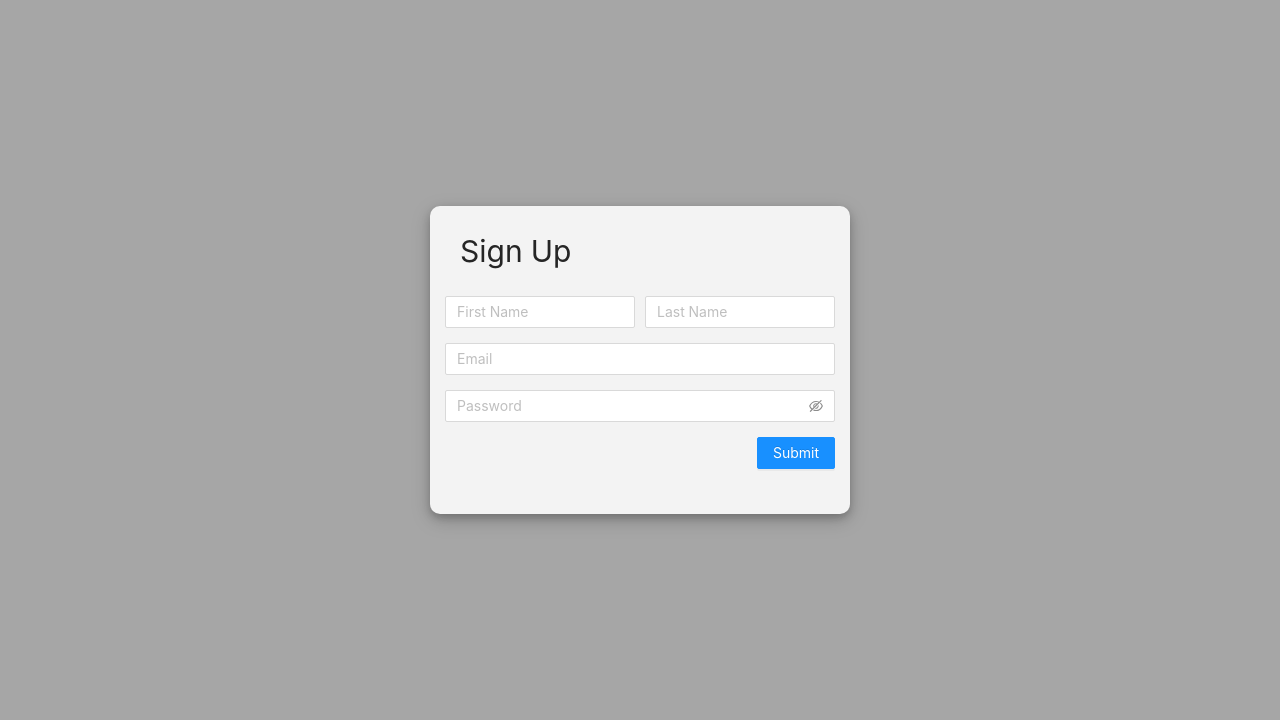
Test: Sign up form › displays Error Screen when email entered with existing account
The image size is (1280, 720).
Step 1. Type "John" into the field with placeholder "First Name" → (540, 312), box [445,296,635,328]
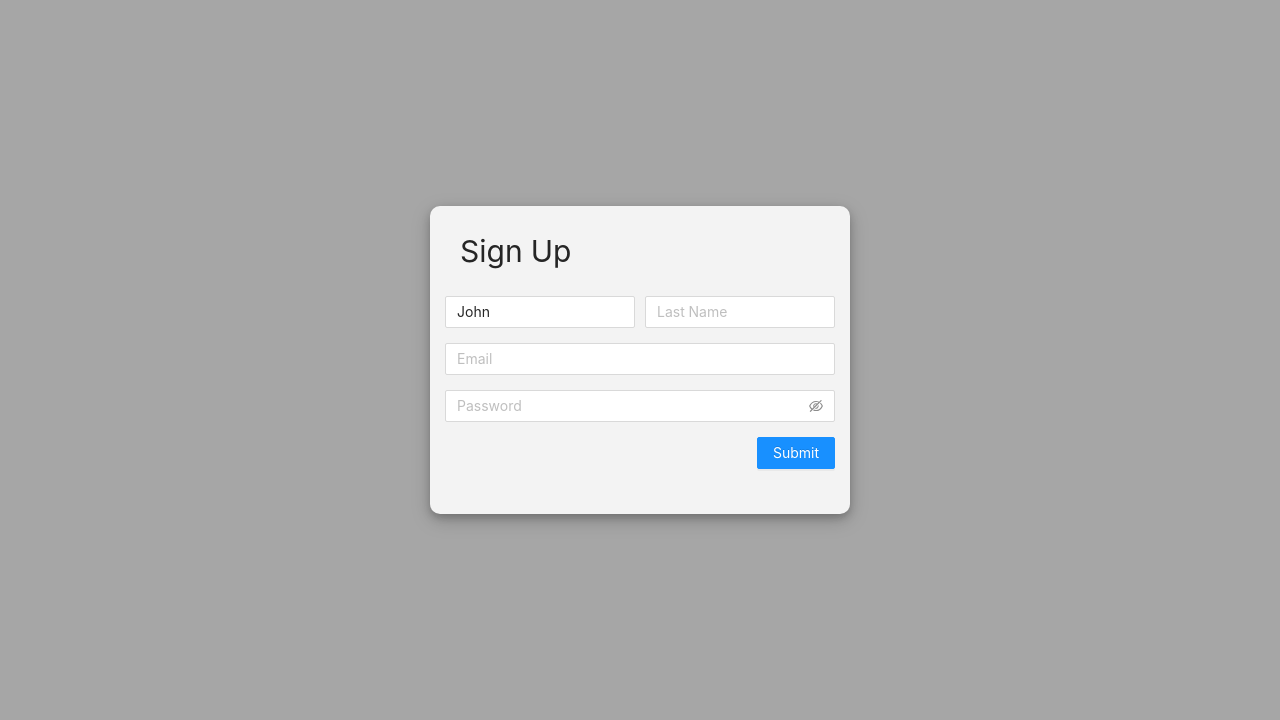
Step 2. Type "Smith" into the field with placeholder "Last Name" → (740, 312), box [645,296,835,328]
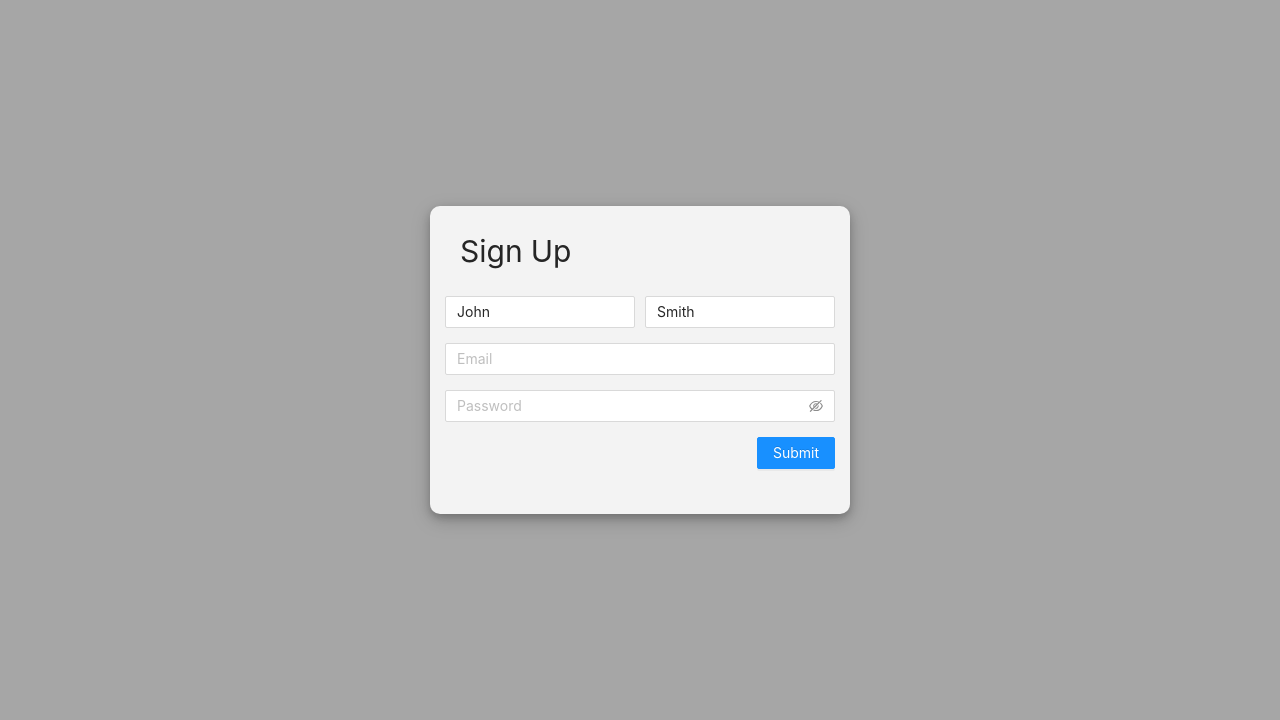
Step 3. Type "johnsmith@gmail.com" into the field with placeholder "Email" → (640, 359), box [445,343,835,375]
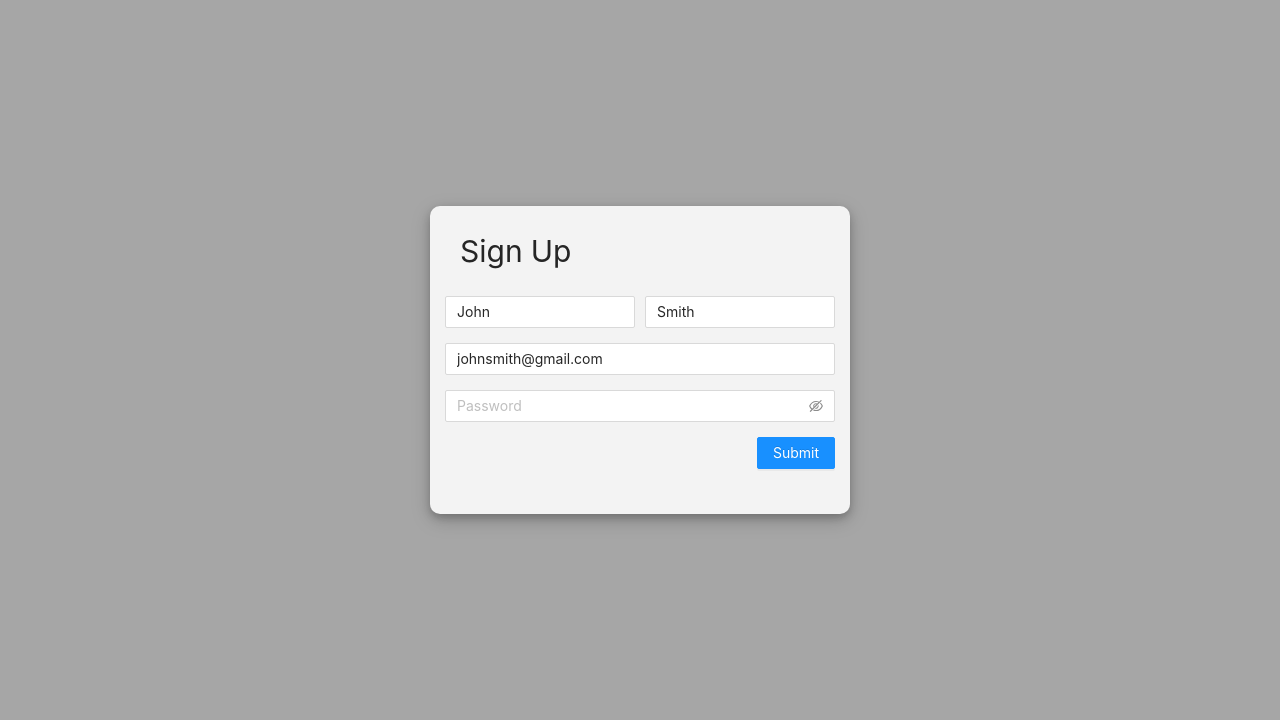
Step 4. Type "123456" into the password field with placeholder "Password" → (631, 406), box [457,395,805,417]
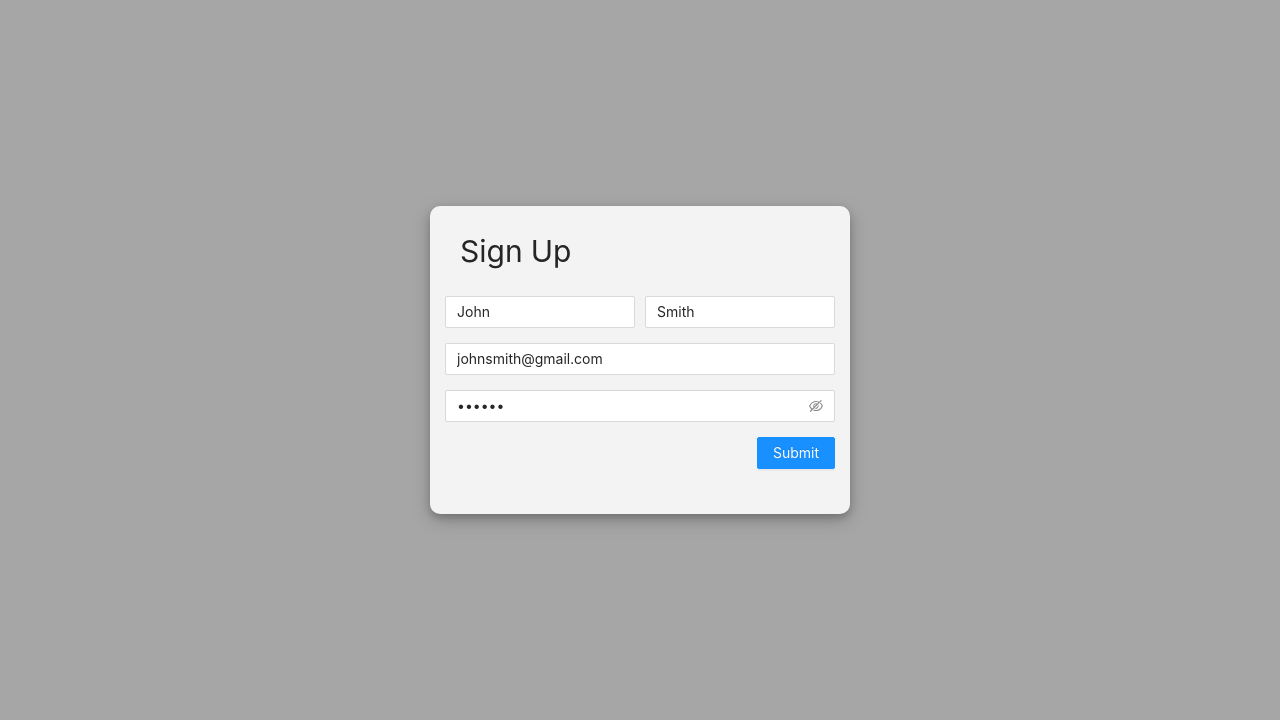
Step 5. Click the button "Submit" → (796, 453), box [757,437,835,469]
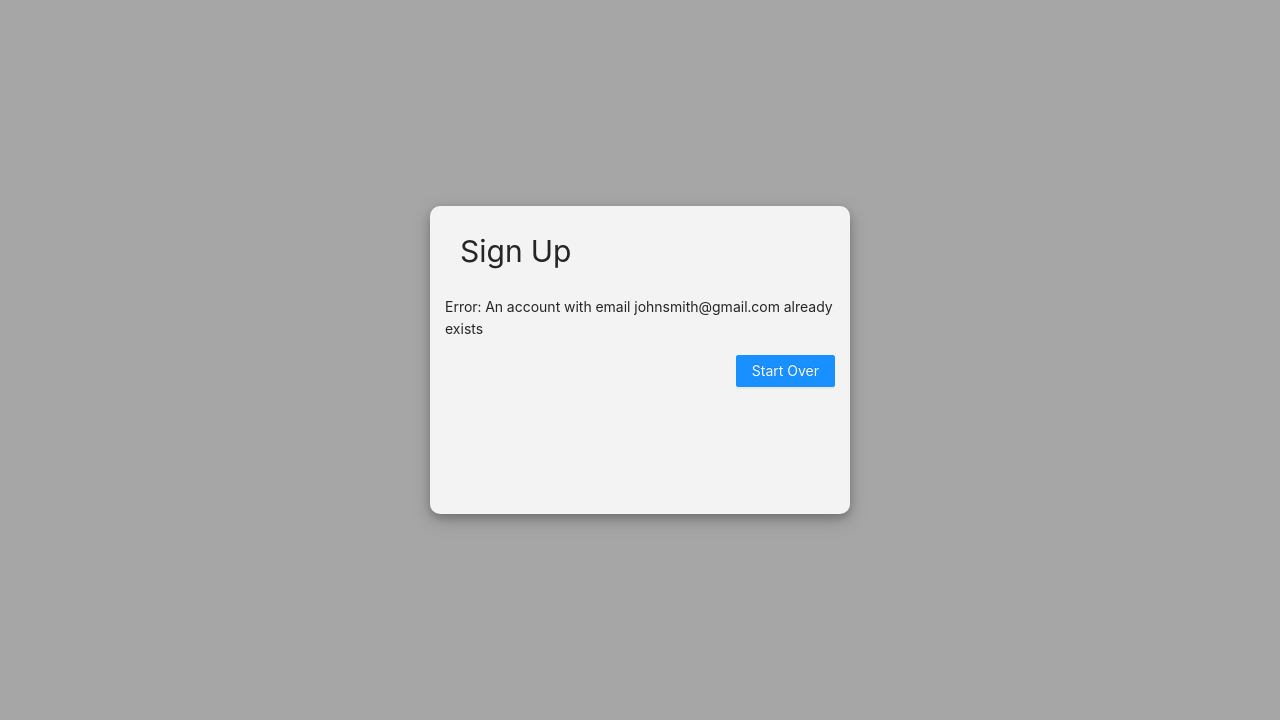
Now the text "Error: An account with email johnsmith@gmail.com already exists" is shown, box [445,296,835,340]
